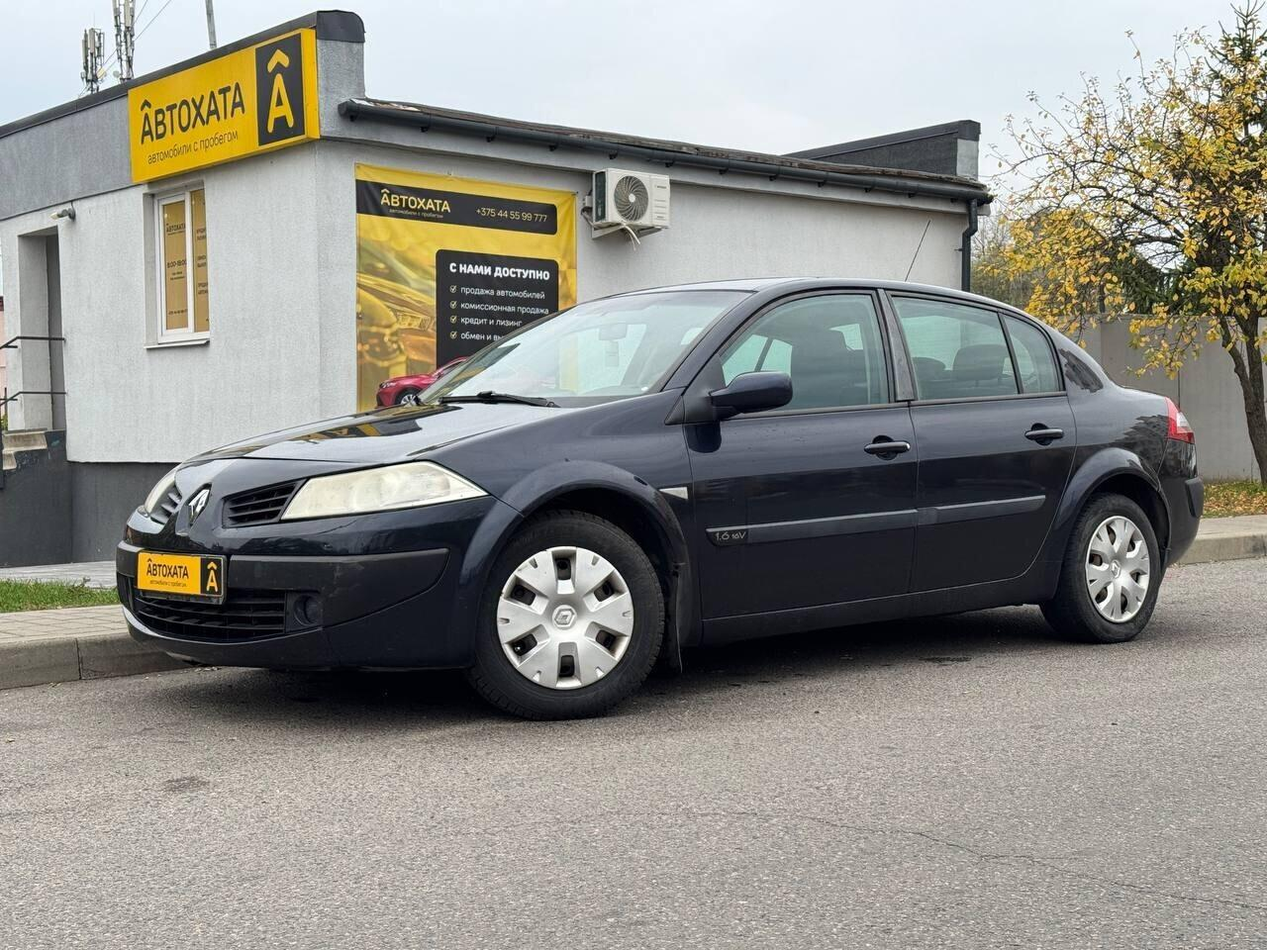Megane_2005-2009: (115, 276, 1203, 732)
